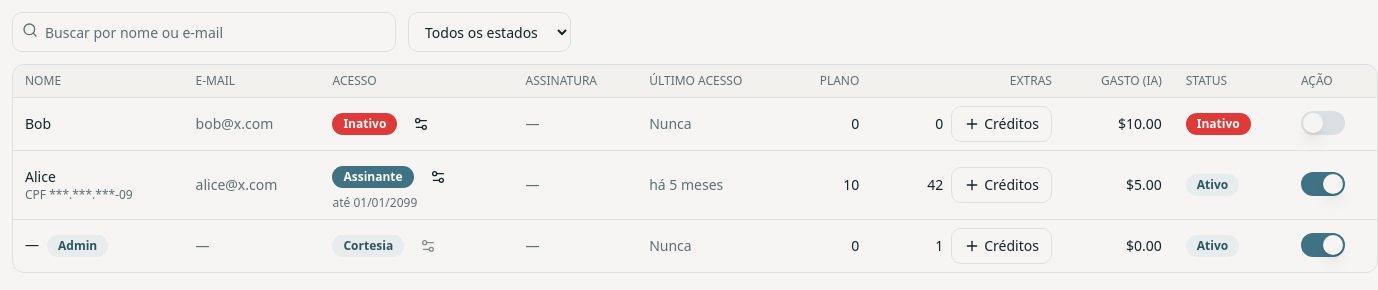
it: UsersTable › filters by name and by email
Step 1. Type "ali" into the field with placeholder "Buscar por nome ou e-mail" → (204, 32), box 12,12 -> 396,52
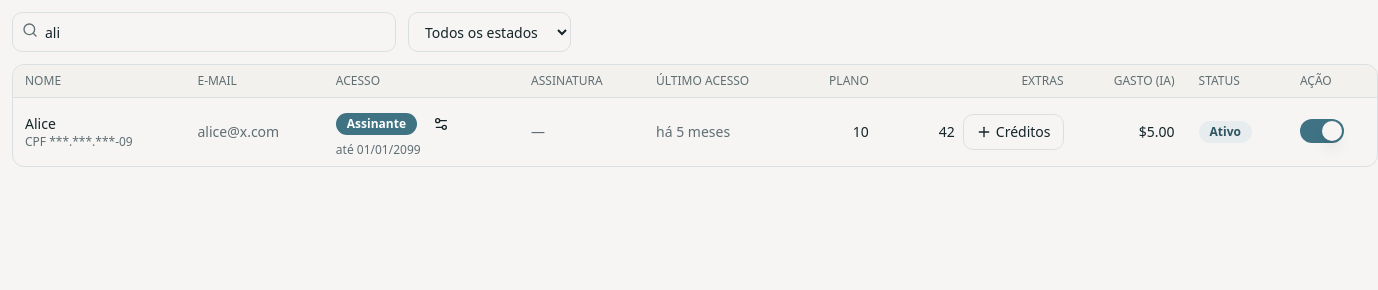
Expected: the text "Alice" is shown, 25,114 -> 56,133
Step 2. Replace the text in the field with placeholder "Buscar por nome ou e-mail" with "bob@x" → (204, 32), box 12,12 -> 396,52
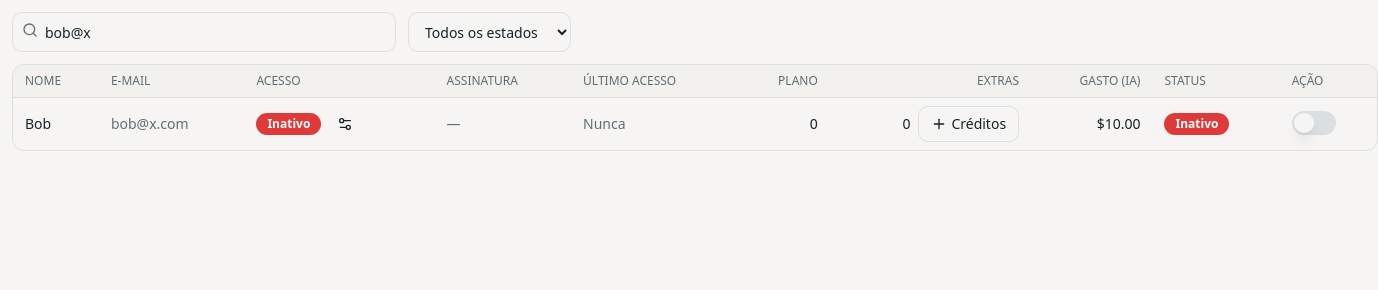
Expected: the text "Bob" is shown, 25,114 -> 51,133
